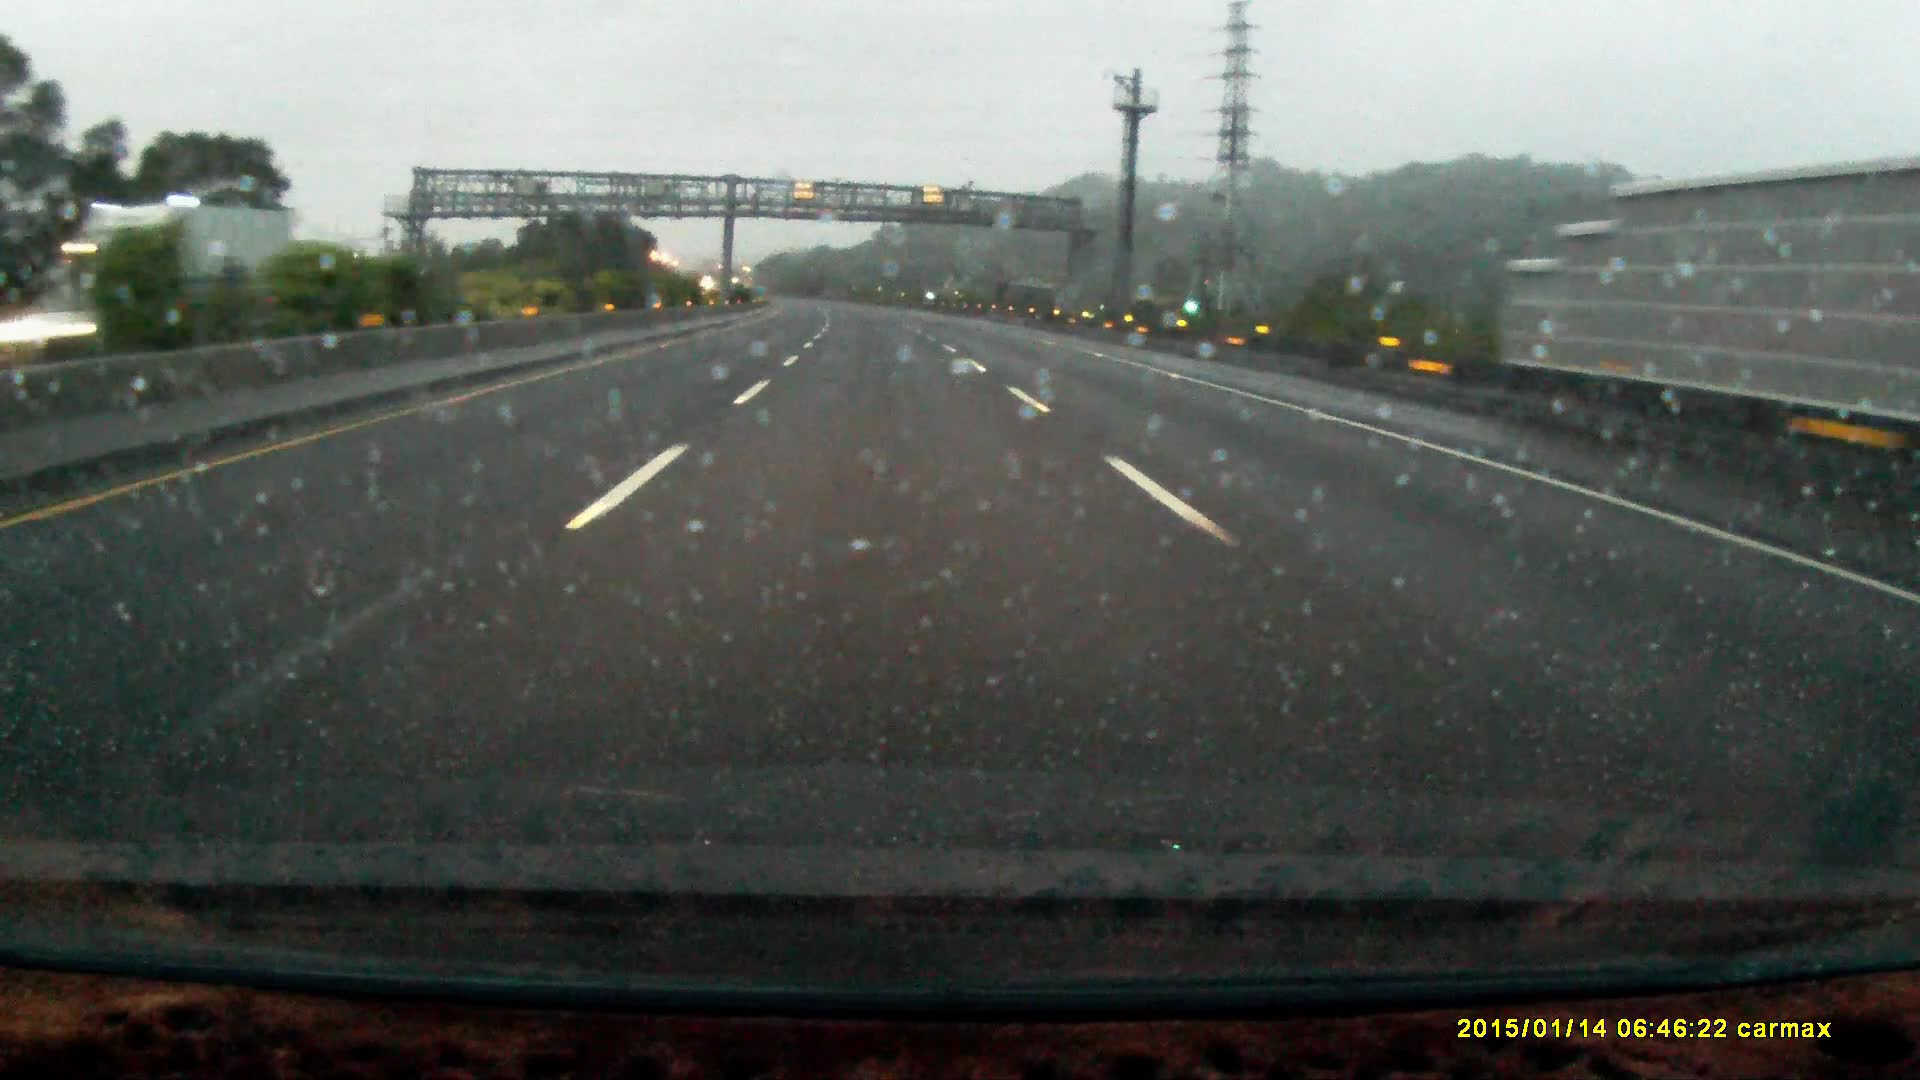vehicle: (59, 203, 287, 328), (12, 282, 154, 375)
